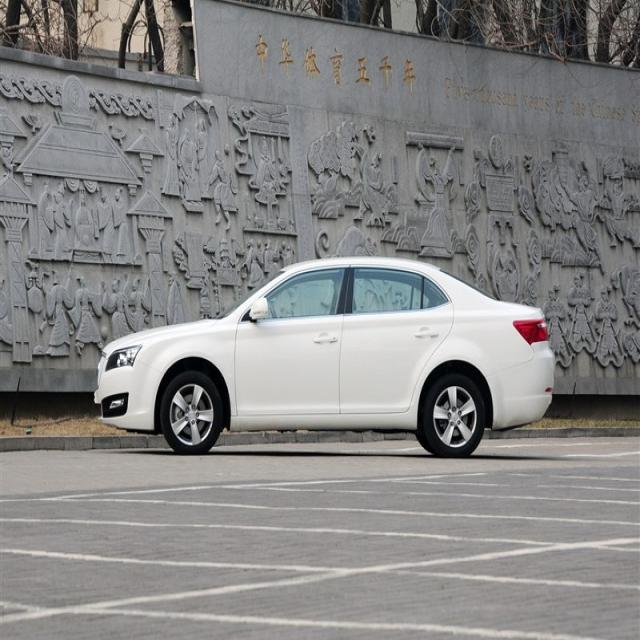back_left_side_light: (512, 317, 550, 347)
door: (342, 266, 455, 424)
front_left_side_door: (235, 263, 352, 419)
front_left_side_light: (104, 344, 142, 374)
front_left_side_mirror: (247, 297, 270, 322)
wheel: (159, 368, 223, 455), (425, 373, 484, 457)
